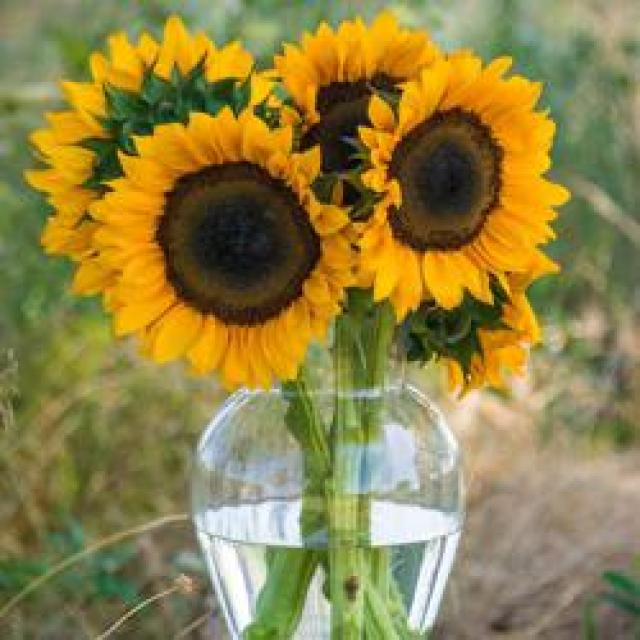sunflower: (80, 105, 360, 399), (343, 47, 573, 329), (21, 15, 294, 251)
